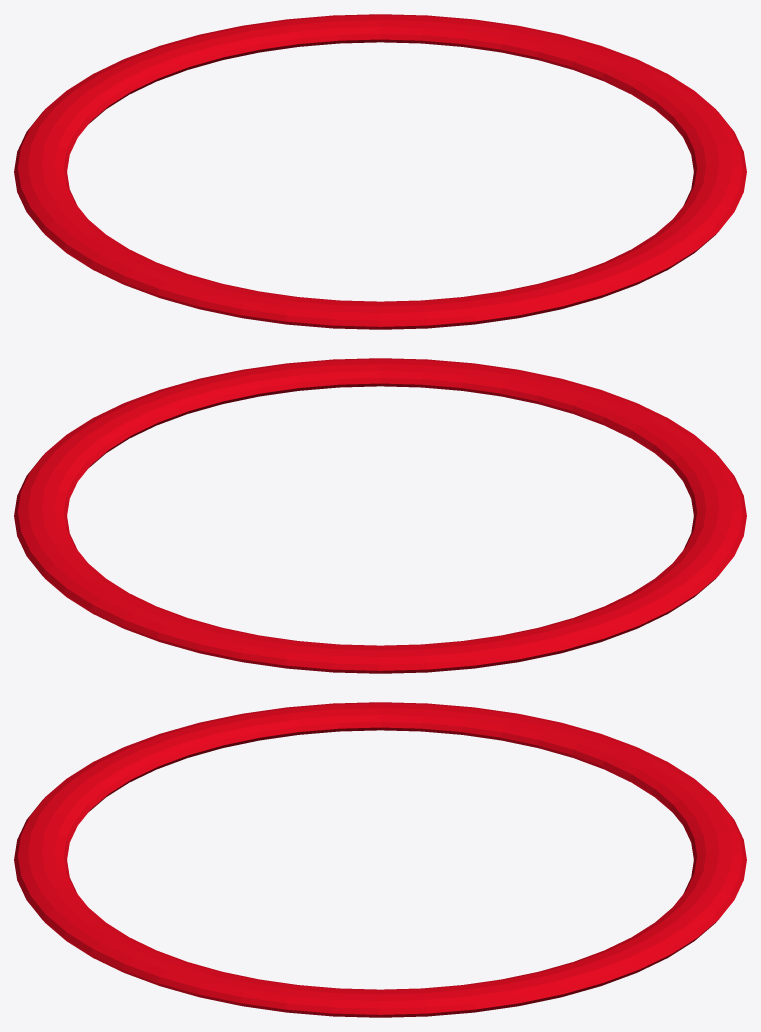
The model's file is Ring.fbx.
3 renders of one model, top to bottom at view 1: azimuth 30°, elevation 25°; view 2: azimuth 150°, elevation 25°; view 3: azimuth 270°, elevation 25°, orthographic.
Parts seen in each view (by area): view 1: Torus; view 2: Torus; view 3: Torus.
Boxes of the visible parts, bbox=[...] form: Torus: bbox=[14, 14, 746, 329]; Torus: bbox=[14, 358, 746, 673]; Torus: bbox=[14, 702, 746, 1017].
Bounding box in the file's own units: 216 × 5.69 × 216.
